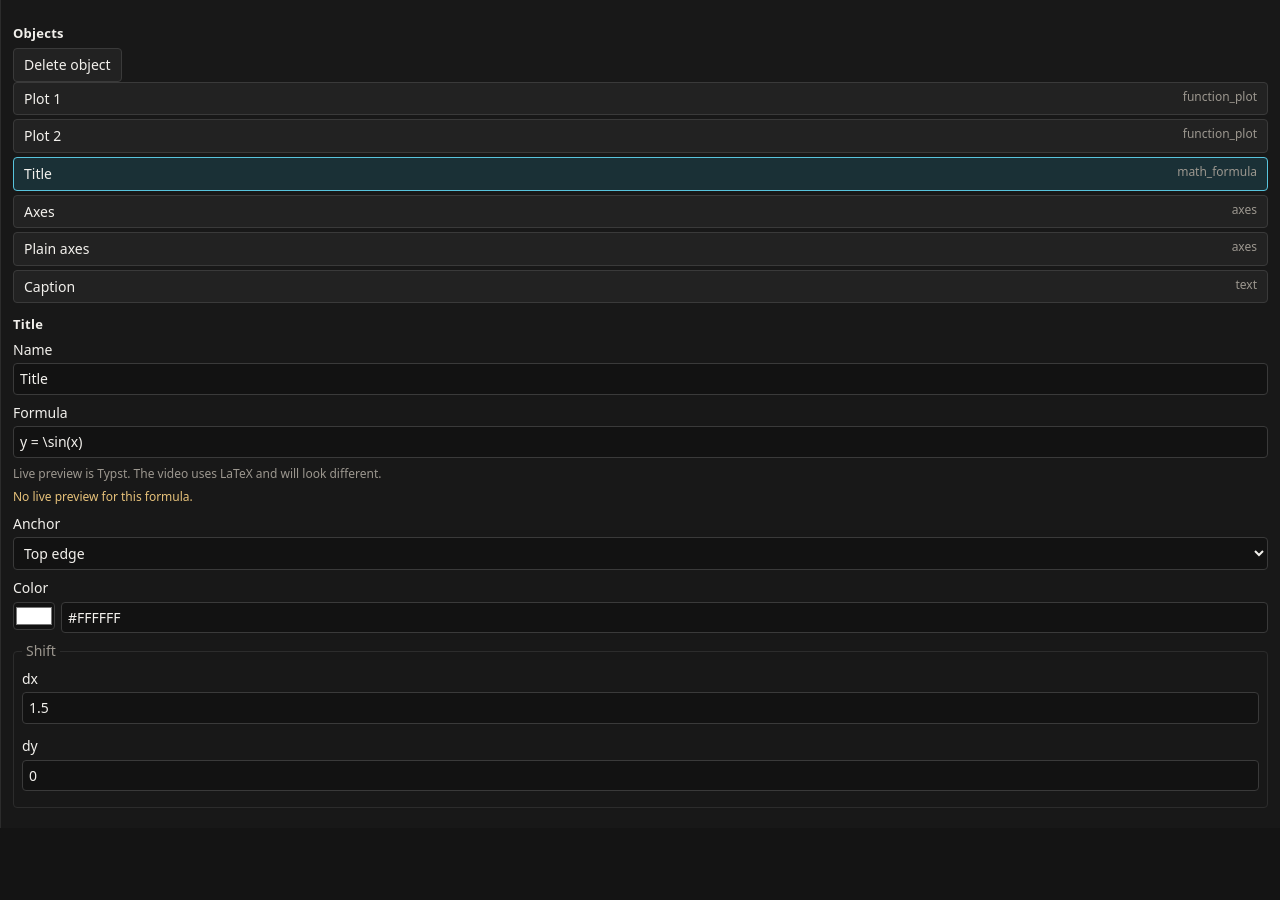
Test: Inspector fields › previews the formula being typed in its own slot, and the stored one after a refusal
Replace the text in the field with test id "formula-latex" with "y = \\cos(x)" at [640, 442], box x1=13 y1=426 x2=1268 y2=458
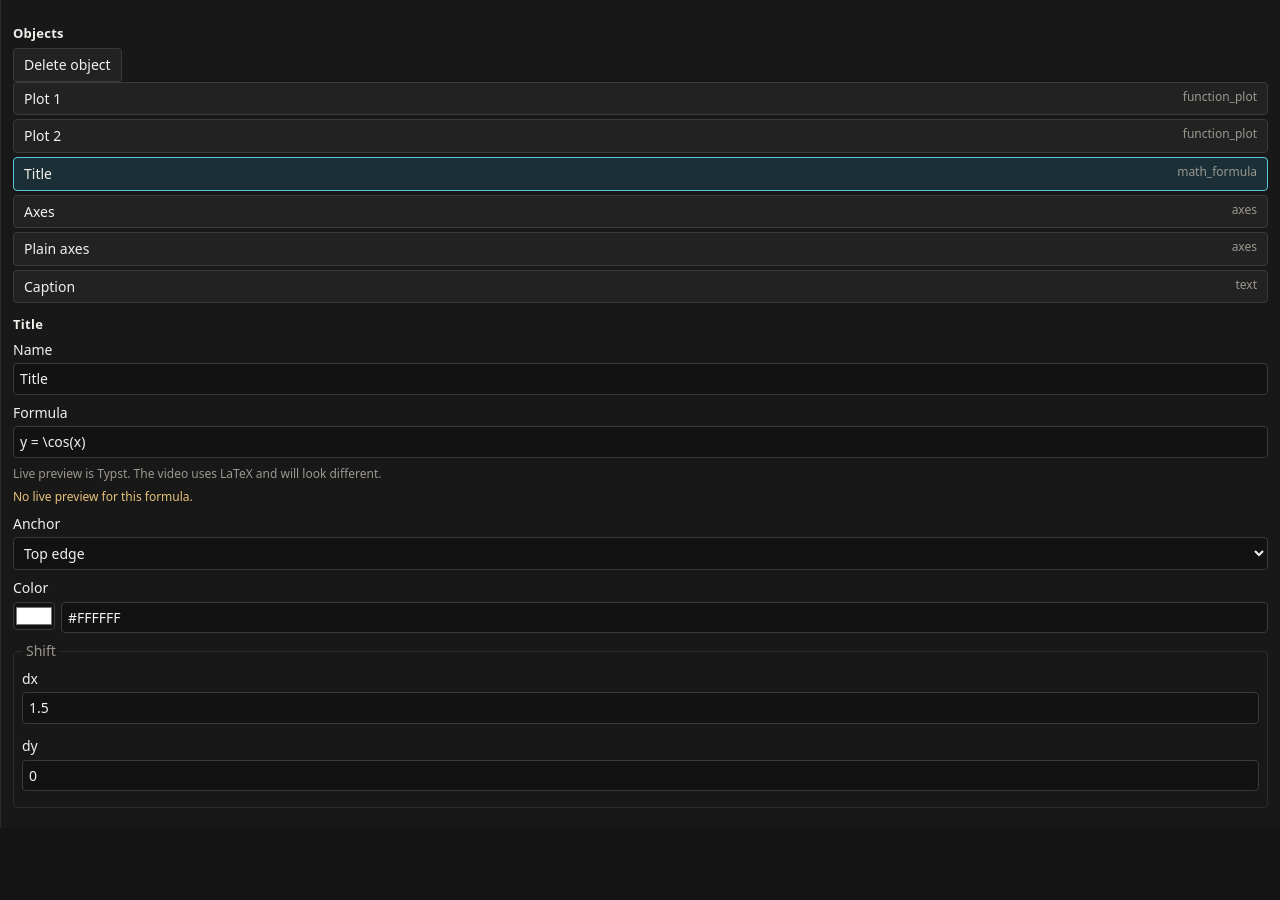
Leave the field with test id "formula-latex", box x1=13 y1=426 x2=1268 y2=458
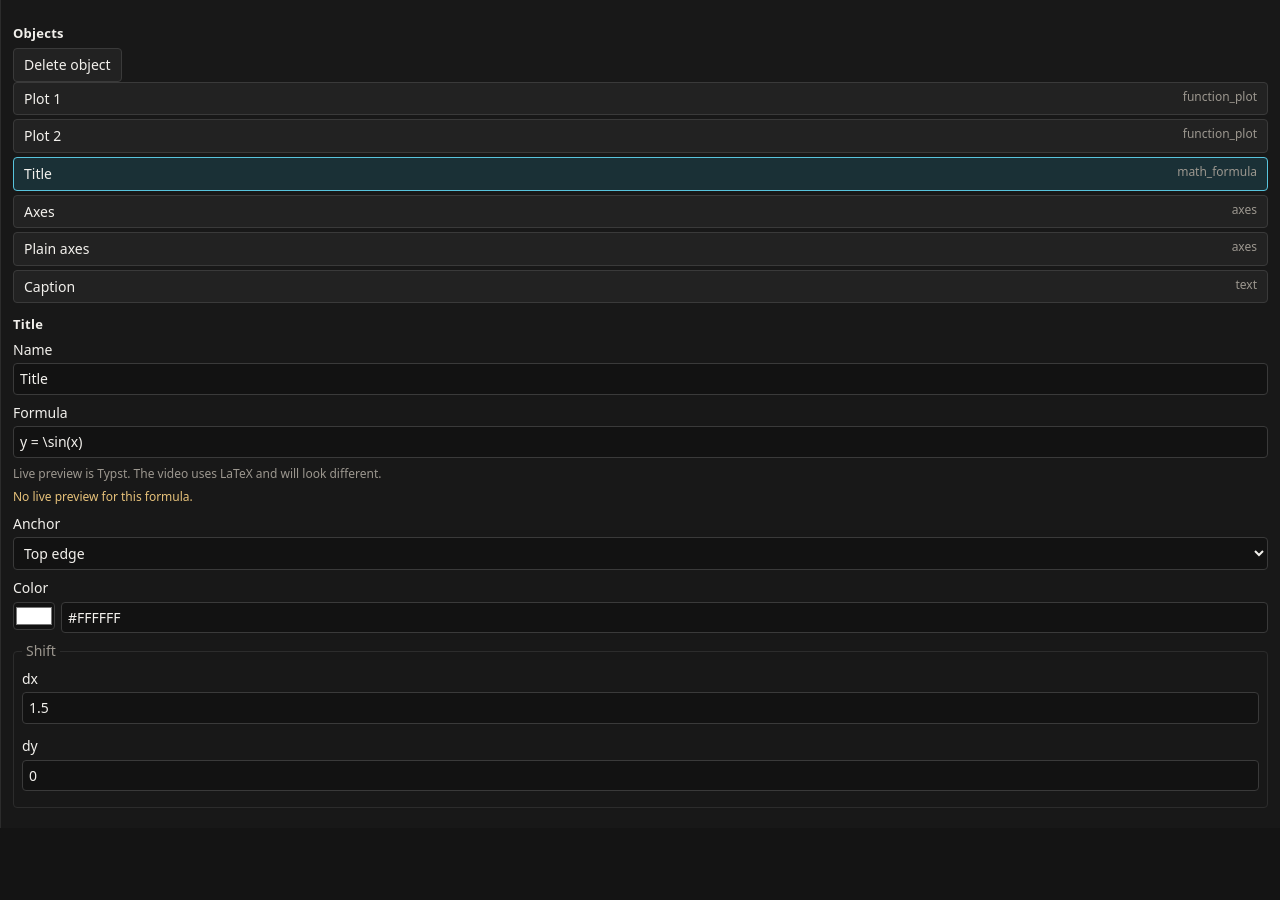
Now the field with test id "formula-latex" holds "y = \\sin(x)", box x1=13 y1=426 x2=1268 y2=458
